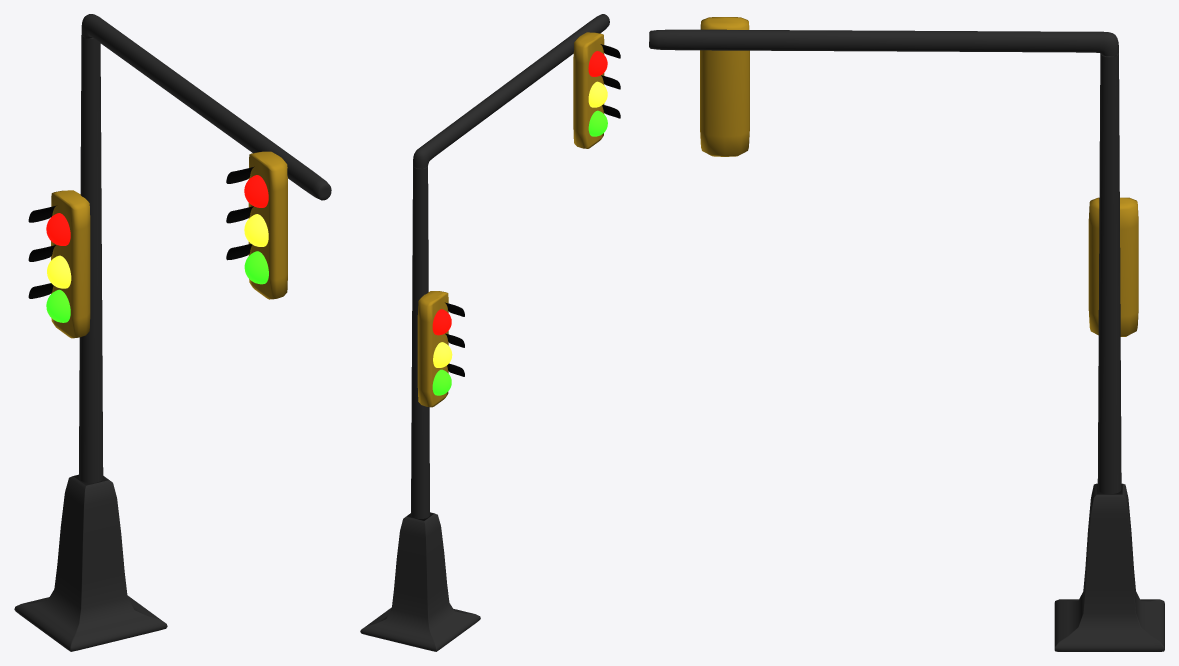
Rendered from Semaforo_Opuesto.fbx.
The picture shows the model from 3 angles, left to right: view 1: azimuth 30°, elevation 25°; view 2: azimuth 150°, elevation 25°; view 3: azimuth 270°, elevation 25°; orthographic projection. The views are drawn at different scales.
Parts seen in each view (by area): view 1: Poste, Base, Semaforo, Semaforo2, Luz_Verde, Luz_Amarilla, Luz_Roja; view 2: Poste, Base, Semaforo2, Semaforo, Luz_Verde, Luz_Roja, Luz_Amarilla; view 3: Poste, Base, Semaforo2, Semaforo.
Part boxes in pixels (bbox=[...]): Poste: bbox=[79, 14, 331, 483]; Base: bbox=[14, 474, 167, 651]; Semaforo: bbox=[28, 190, 90, 338]; Semaforo2: bbox=[226, 151, 287, 299]; Luz_Verde: bbox=[46, 251, 268, 322]; Luz_Amarilla: bbox=[47, 214, 268, 288]; Luz_Roja: bbox=[46, 175, 268, 245]; Poste: bbox=[411, 14, 609, 518]; Base: bbox=[360, 512, 480, 651]; Semaforo2: bbox=[573, 32, 620, 148]; Semaforo: bbox=[417, 291, 464, 407]; Luz_Verde: bbox=[432, 110, 607, 395]; Luz_Roja: bbox=[432, 51, 607, 335]; Luz_Amarilla: bbox=[433, 81, 607, 367]; Poste: bbox=[649, 29, 1121, 493]; Base: bbox=[1054, 483, 1164, 651]; Semaforo2: bbox=[700, 17, 749, 156]; Semaforo: bbox=[1088, 197, 1138, 336].
Bounding box in the file's own units: 200 × 1200 × 935.
